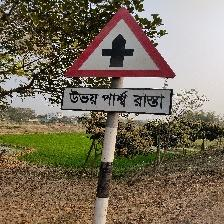Crossroad: (53, 6, 183, 122)
